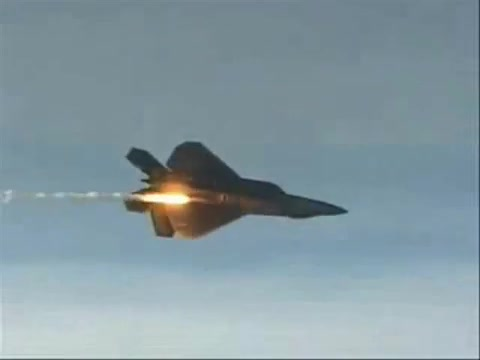aeroplane: (124, 137, 351, 242)
